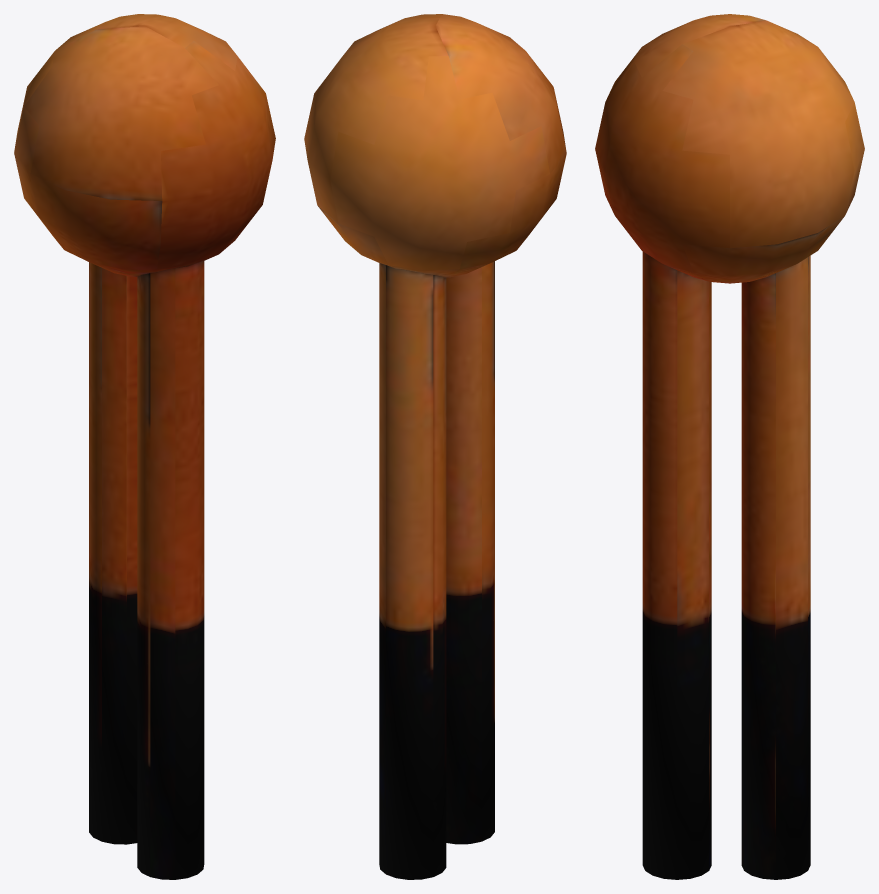
File: lever.glb
3 renders of one model, left to right at view 1: azimuth 30°, elevation 25°; view 2: azimuth 150°, elevation 25°; view 3: azimuth 270°, elevation 25°, orthographic. The views are drawn at different scales.
Visible parts, largest first — view 1: Lever.001; view 2: Lever.001; view 3: Lever.001.
Part boxes in pixels (<box>): Lever.001: <box>14,14,275,879</box>; Lever.001: <box>304,14,566,879</box>; Lever.001: <box>595,14,864,879</box>.
Size of the model in its own units: 0.1037 by 0.3556 by 0.1037.
1 material, 1 textured.
